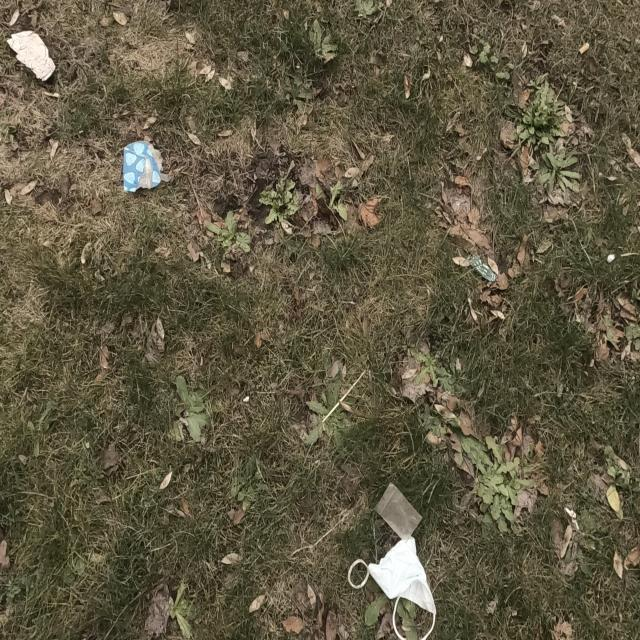Mask: (343, 548, 437, 632)
